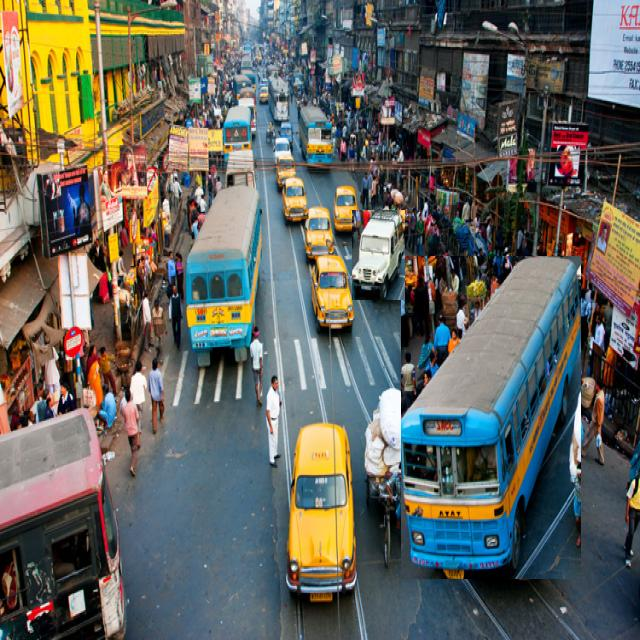bus: (401, 256, 581, 579), (185, 185, 261, 367)
car: (285, 423, 356, 601), (352, 211, 405, 300), (311, 254, 354, 331)
